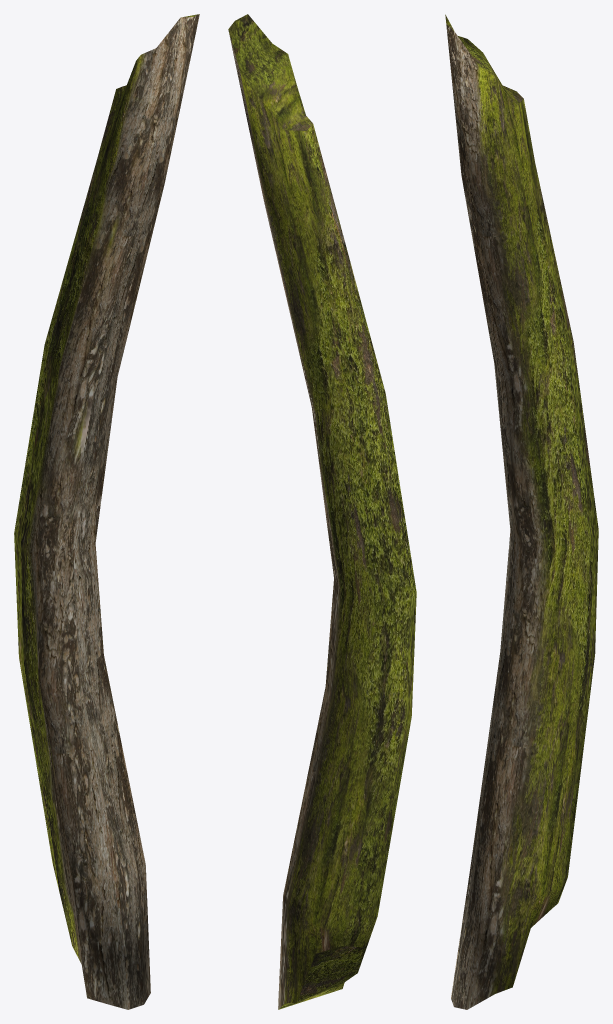
File: forest ground log mossy 1.fbx
The picture shows the model from 3 angles, left to right: view 1: azimuth 30°, elevation 25°; view 2: azimuth 210°, elevation 25°; view 3: azimuth 270°, elevation 25°; orthographic projection. The views are drawn at different scales.
Parts seen in each view (by area): view 1: Cylinder; view 2: Cylinder; view 3: Cylinder.
Part boxes in pixels (<box>): Cylinder: <box>14,14,199,1009</box>; Cylinder: <box>228,14,416,1009</box>; Cylinder: <box>445,14,598,1009</box>.
Size of the model in its own units: 0.3872 by 2.8 by 0.3862.
